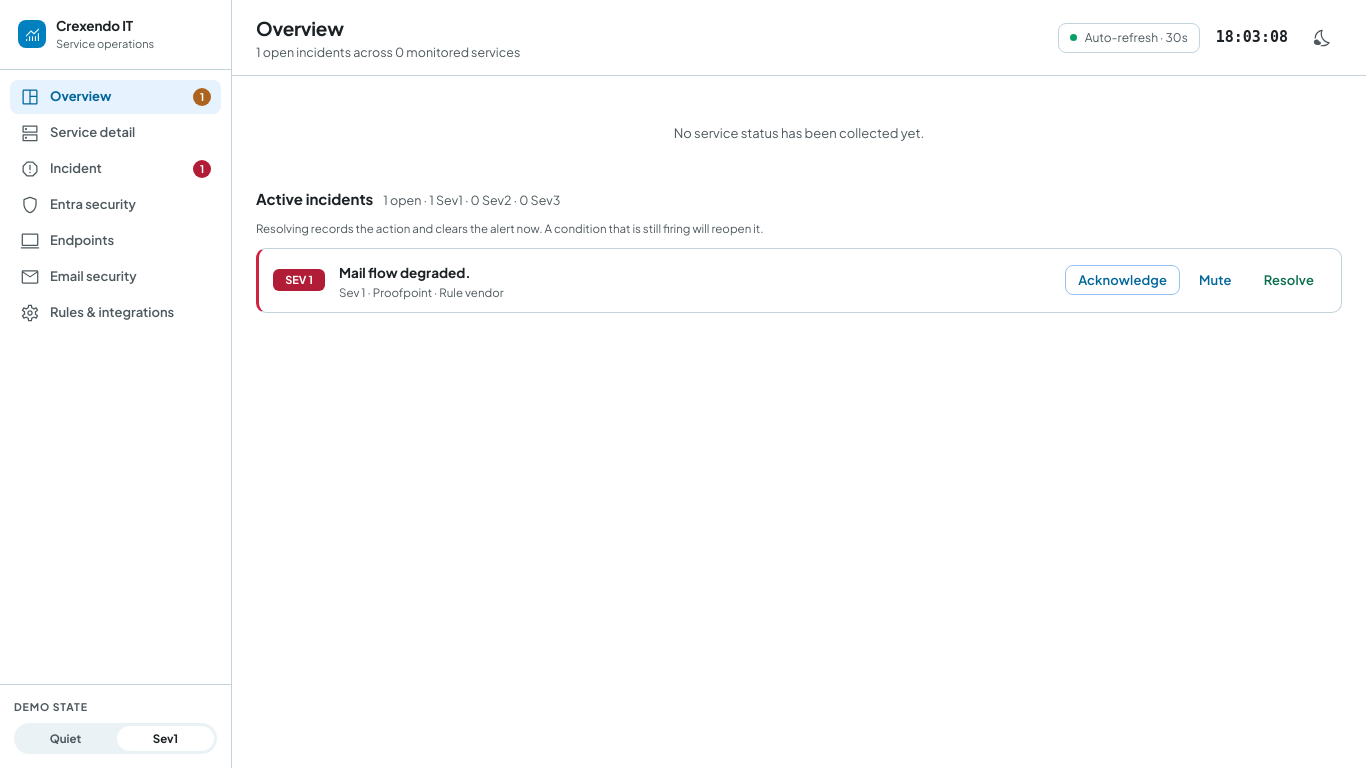
Scenario: Resolve says what it actually does › after the resolve, says all three facts INCLUDING that the ack survives
The image size is (1366, 768).
expect the element with test id "alert-row" is shown: met, box left=256, top=248, right=1342, bottom=313
Click the button "Resolve" at coordinates (1289, 280), box left=1251, top=265, right=1327, bottom=295
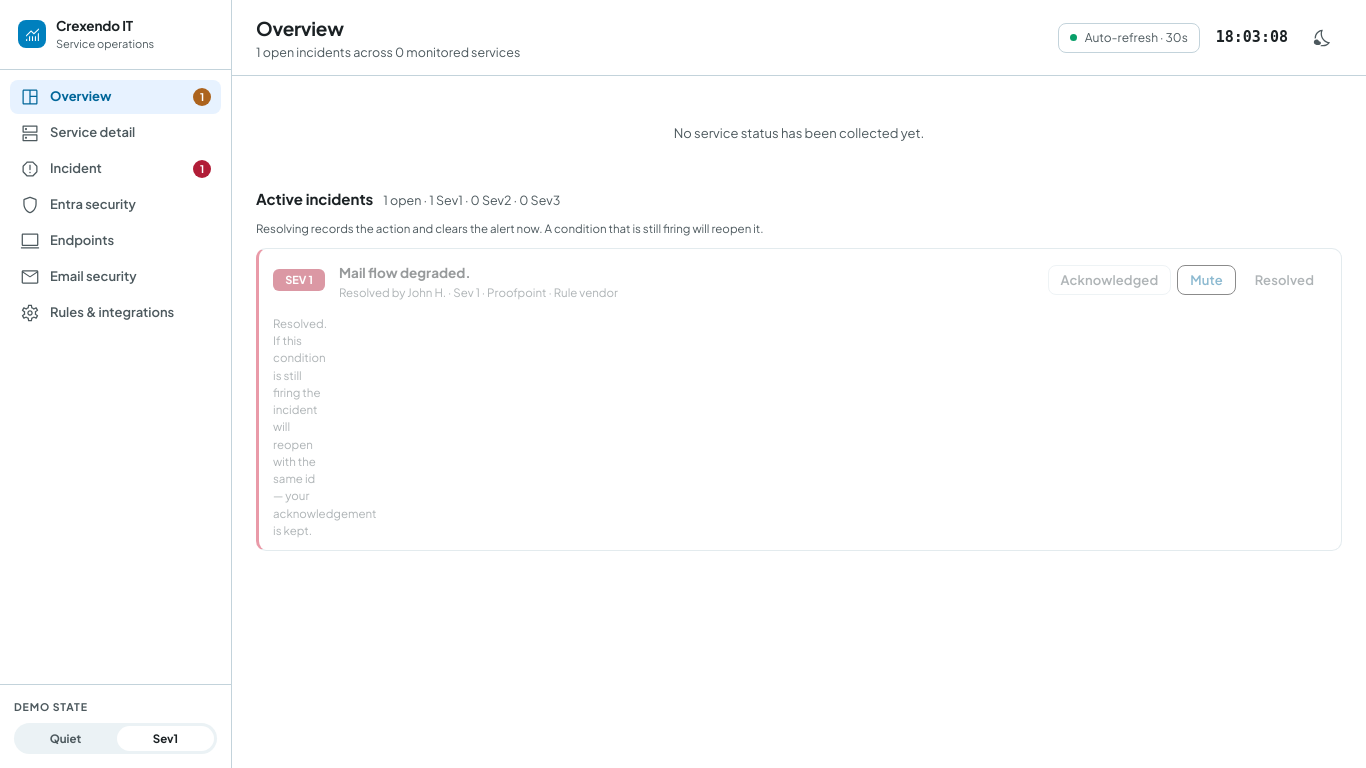
expect the text with test id "resolve-note" shows "Resolved. If this condition is still firing the incident will reopen with the same id — your acknowledgement is kept.": met, box left=273, top=316, right=377, bottom=538
expect the text with test id "resolve-note" shows "Resolved": met, box left=273, top=316, right=377, bottom=538
expect the text with test id "resolve-note" shows "reopen": met, box left=273, top=316, right=377, bottom=538
